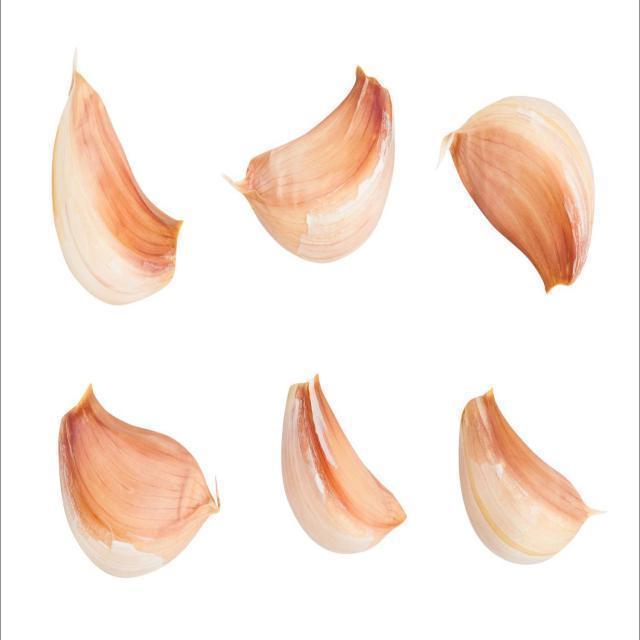garlic: (42, 66, 184, 308), (54, 377, 222, 578), (226, 66, 396, 263), (444, 92, 599, 295), (278, 368, 410, 560), (456, 389, 592, 569)
